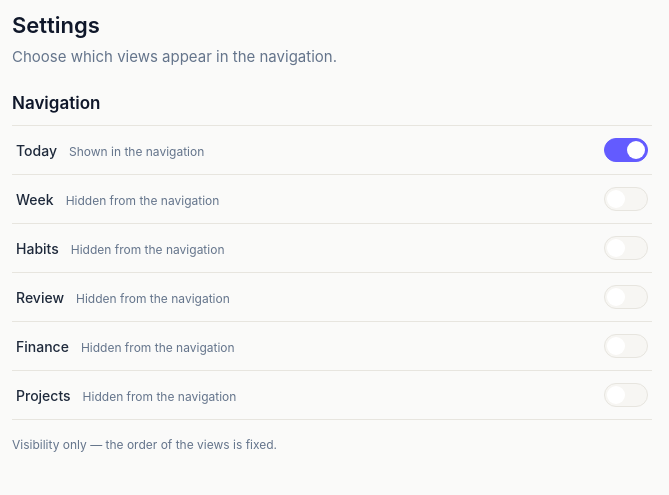
Scenario: SettingsView — the guardrails › refuses the last visible view, writes nothing and leaves the switch on
Click the switch named "Show Today in the navigation".
click(626, 150)  # box [604, 138, 648, 162]
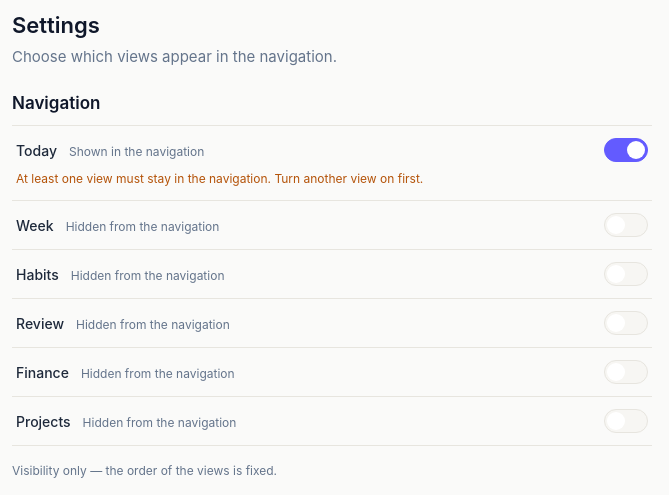
Expected: the text "Shown in the navigation" is shown, [69, 143, 204, 161]
Result: the text "At least one view must stay in the navigation. Turn another view on first." is shown at [16, 171, 423, 186]
